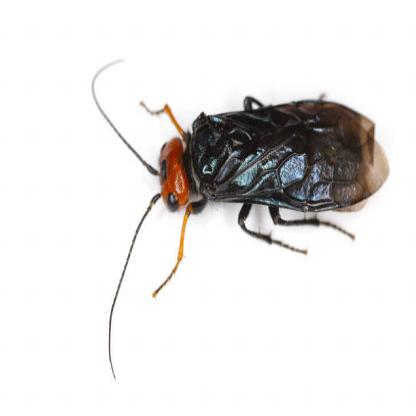sawfly: (85, 56, 394, 386)
